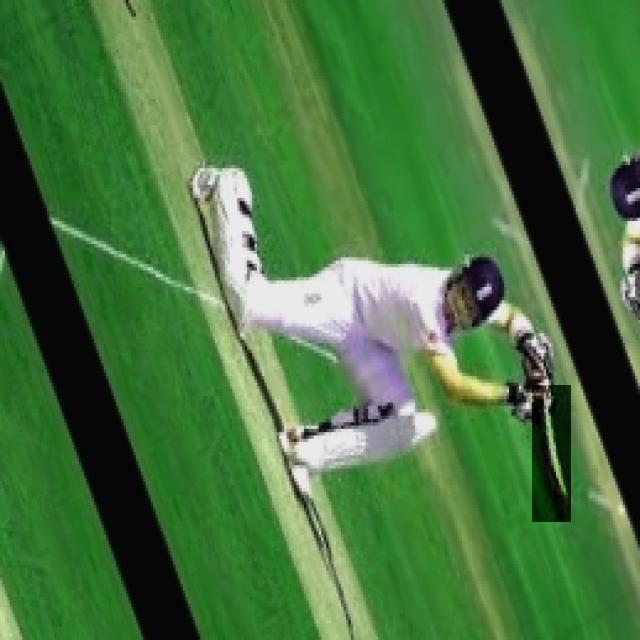bat: (534, 388, 574, 522)
toe: (552, 478, 571, 508)
